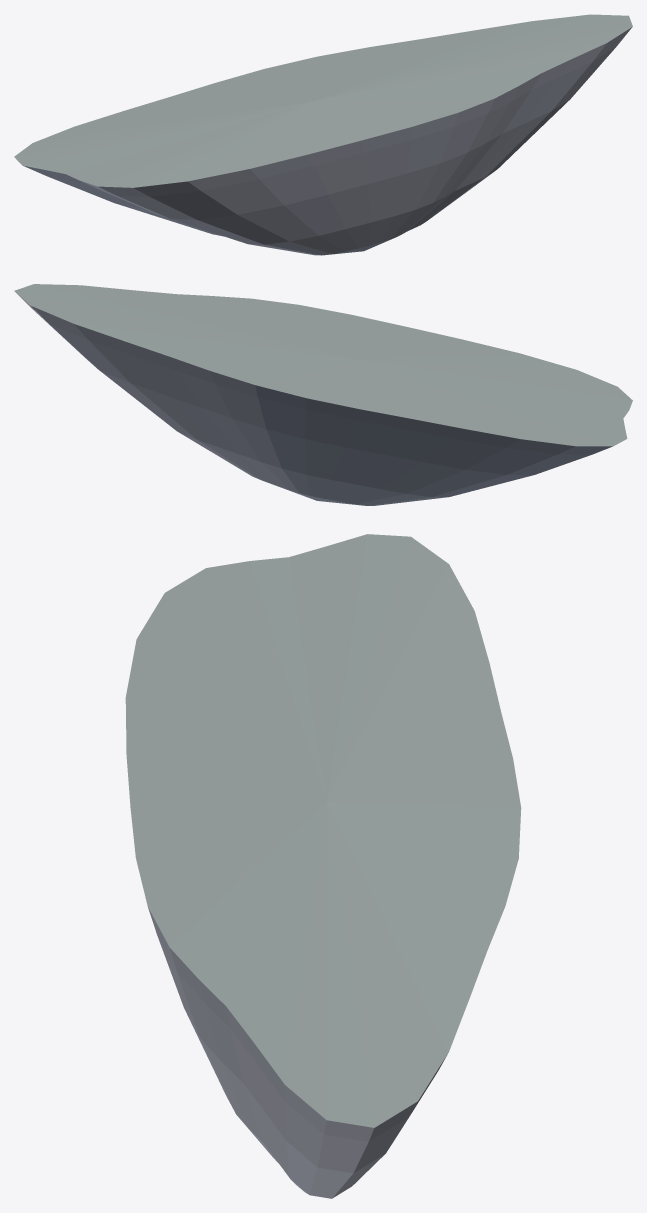
Rendered from shelf.glb.
3 renders of one model, top to bottom at view 1: azimuth 30°, elevation 25°; view 2: azimuth 150°, elevation 25°; view 3: azimuth 270°, elevation 25°, orthographic. The views are drawn at different scales.
Parts seen in each view (by area): view 1: LOD0; view 2: LOD0; view 3: LOD0.
Part boxes in pixels (bbox=[...]): LOD0: bbox=[14, 14, 632, 255]; LOD0: bbox=[14, 284, 632, 505]; LOD0: bbox=[125, 534, 521, 1198].
Size of what is drawn, in the model's own units: 95.64 by 23.45 by 26.92.
